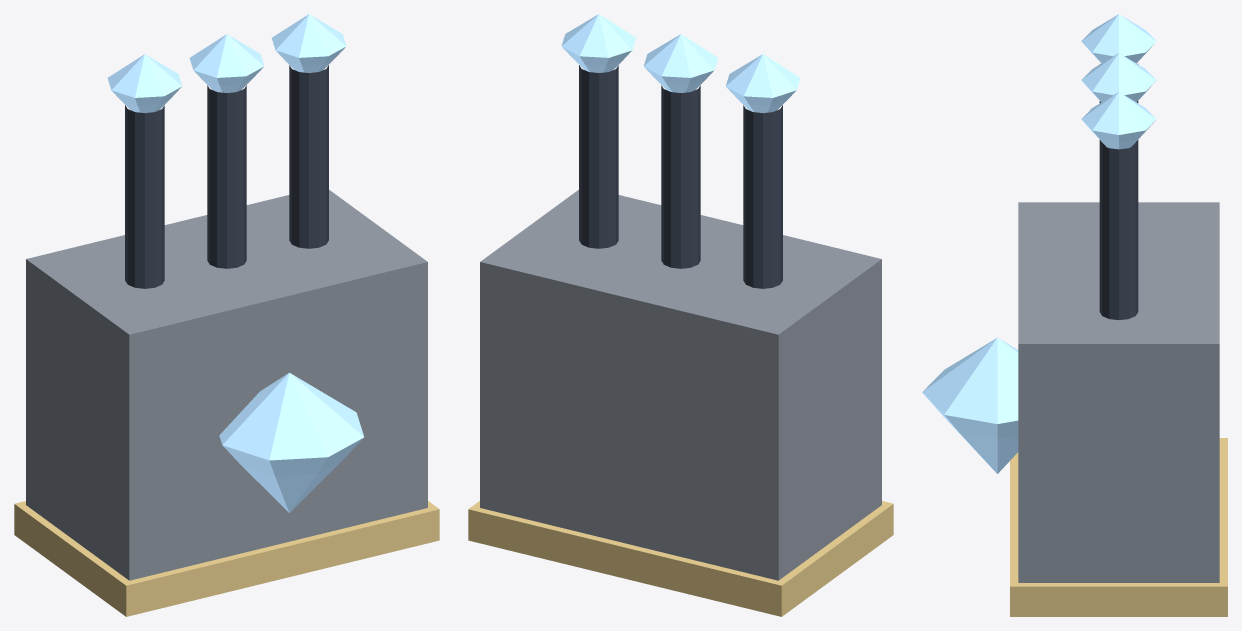
The model's file is mitch_relic.gltf.
3 renders of one model, left to right at view 1: azimuth 30°, elevation 25°; view 2: azimuth 150°, elevation 25°; view 3: azimuth 270°, elevation 25°, orthographic. The views are drawn at different scales.
Parts seen in each view (by area): view 1: mitch_caddy_relic_review; view 2: mitch_caddy_relic_review; view 3: mitch_caddy_relic_review.
Part boxes in pixels (x1,y1,x2,y2): mitch_caddy_relic_review: (14,14,439,616); mitch_caddy_relic_review: (468,14,893,616); mitch_caddy_relic_review: (922,14,1227,616).
Bounding box in the file's own units: 0.42 × 0.645 × 0.365.
